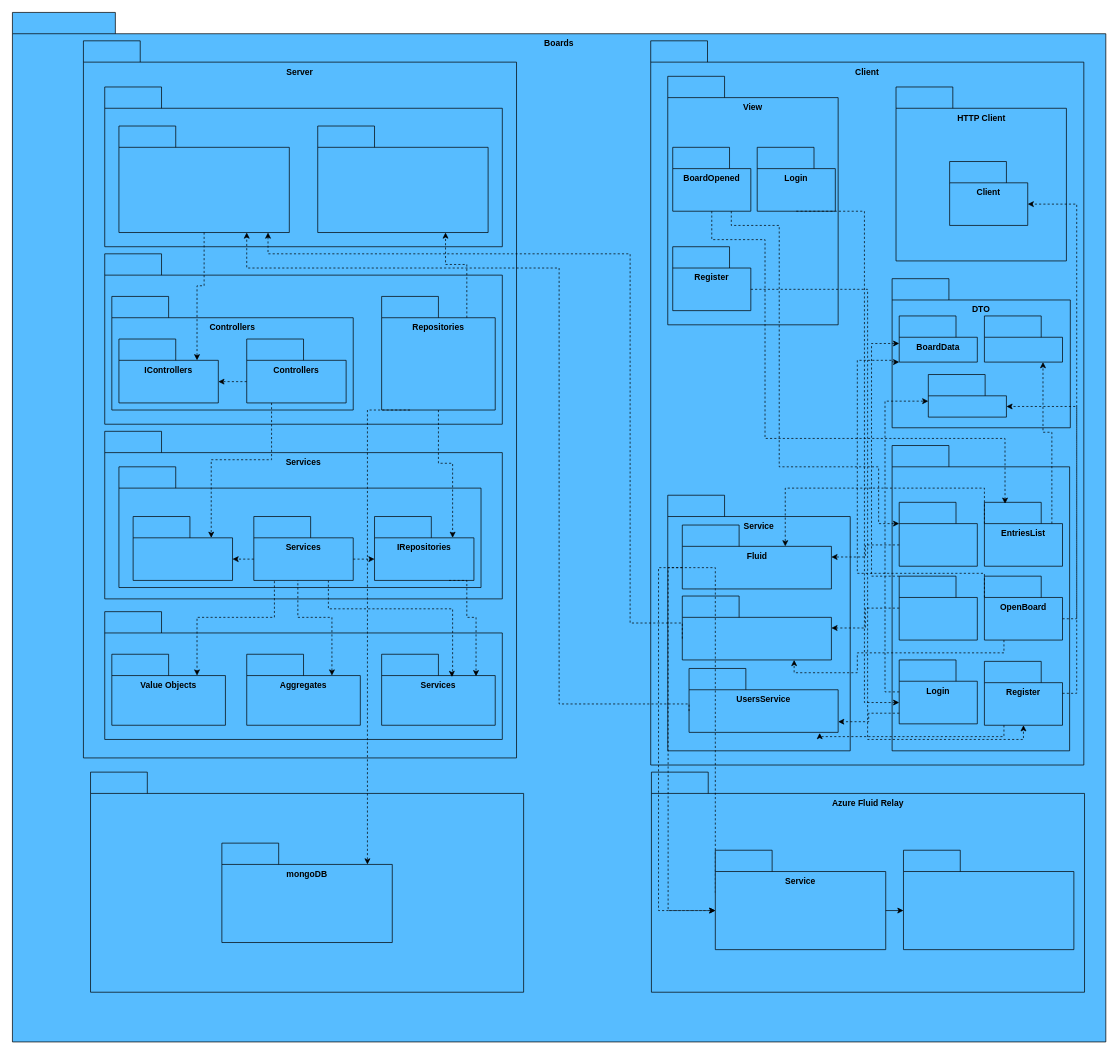
This 1118x1054 diagram has some shape labels left out. Each missing label, with the box of its shape:
Adapters: (104, 253, 502, 424)
API: (118, 125, 289, 233)
BoardsService: (682, 595, 831, 660)
Component: (891, 445, 1070, 751)
CreateBoard: (899, 575, 977, 640)
Domain: (104, 611, 502, 739)
EntryData: (984, 315, 1063, 362)
Header: (899, 502, 977, 566)
Infrastructure: (104, 86, 502, 247)
IServices: (132, 516, 233, 580)
MongoDB Container: (90, 771, 524, 992)
Persistence: (317, 125, 488, 233)
Services to be communicated: (118, 466, 481, 588)
Storage: (903, 850, 1074, 950)
UserData: (928, 374, 1006, 417)
